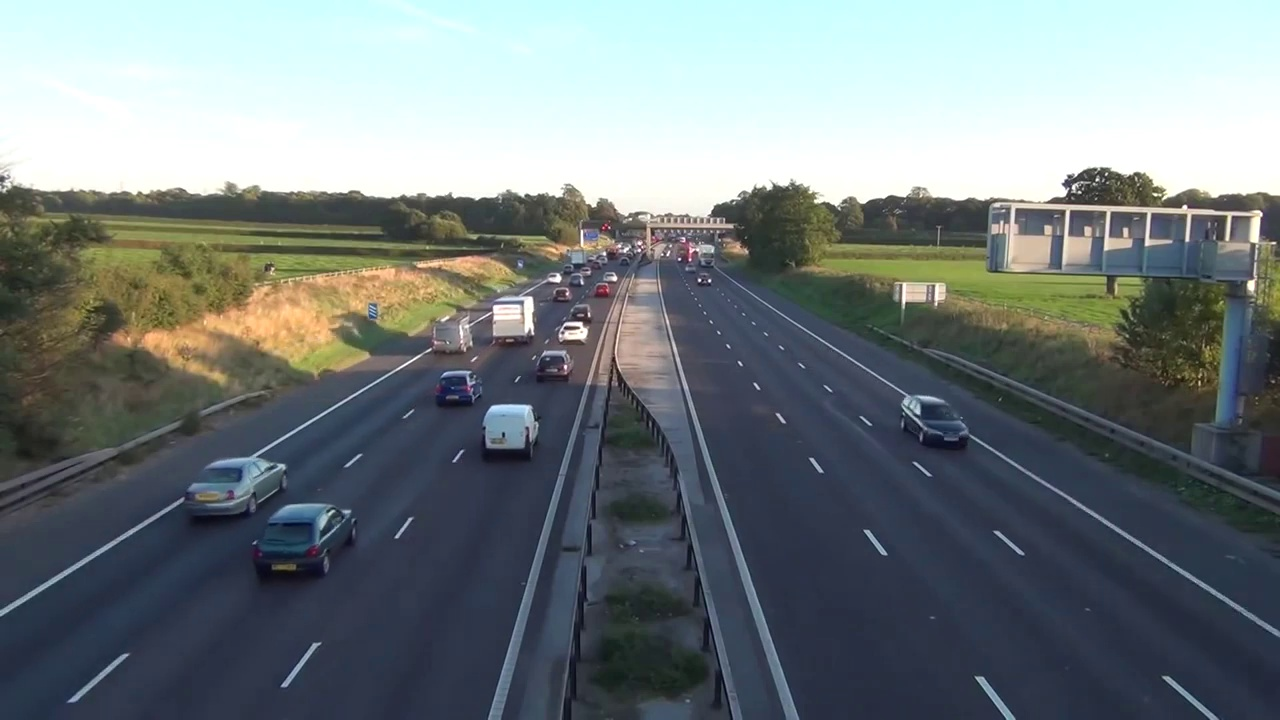bus: (251, 504, 357, 578), (183, 456, 288, 516), (897, 390, 971, 448), (484, 404, 539, 460), (436, 367, 482, 404), (429, 317, 475, 354), (534, 350, 573, 382), (558, 323, 590, 347), (570, 303, 592, 324), (553, 288, 571, 302), (595, 283, 609, 296), (547, 273, 562, 283)
car: (489, 295, 536, 341)
